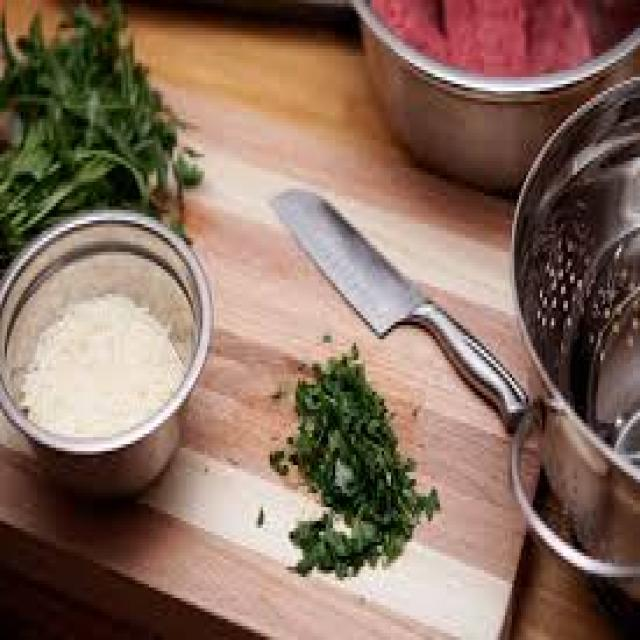Knife: (270, 189, 526, 430)
